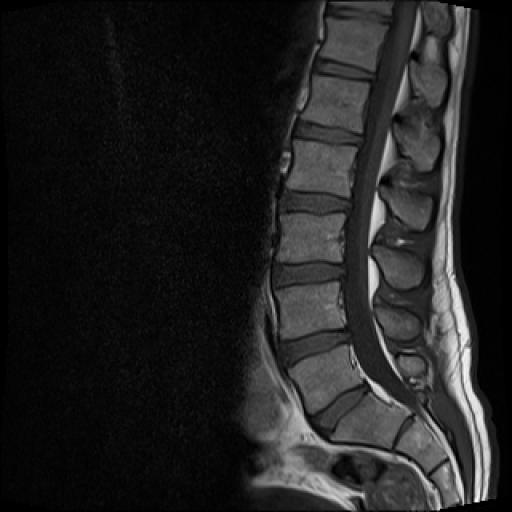L1: (301, 74, 370, 133)
L2: (287, 139, 357, 198)
L3: (276, 213, 345, 263)
L4: (276, 282, 346, 339)
L5: (289, 345, 362, 414)
S1: (331, 389, 409, 450)
